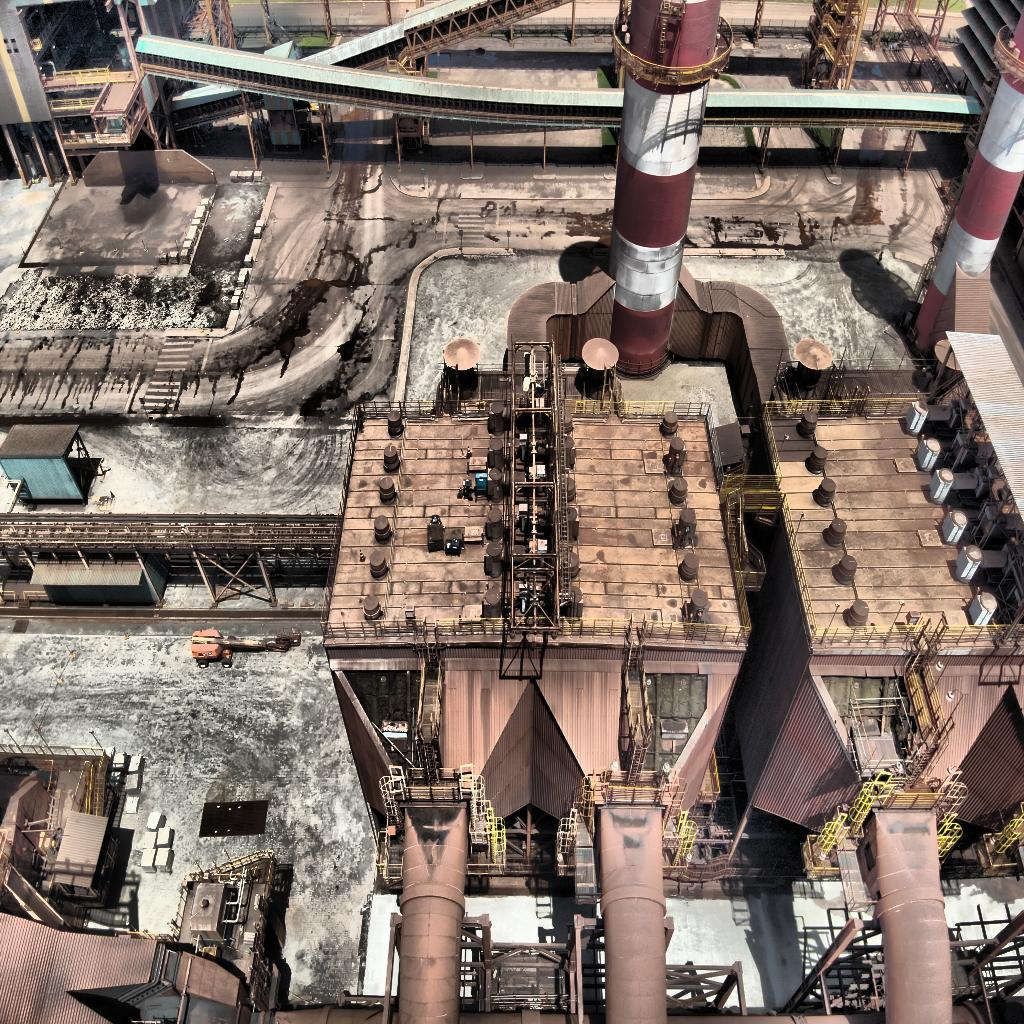Failures: (342, 667, 425, 776), (644, 668, 710, 778), (820, 672, 900, 738)
